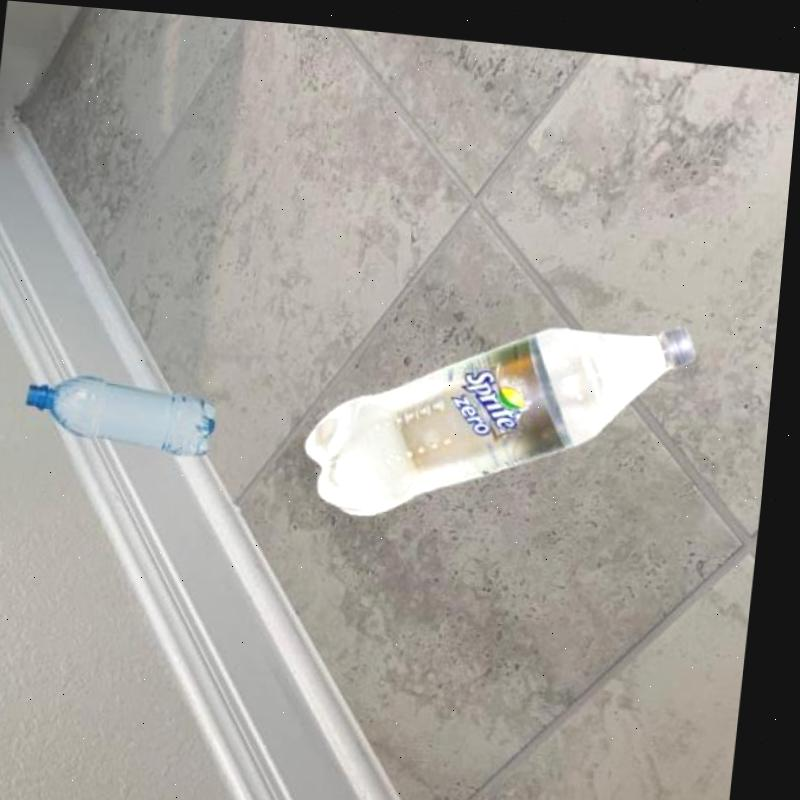botella: (306, 282, 702, 539), (27, 366, 232, 452)
